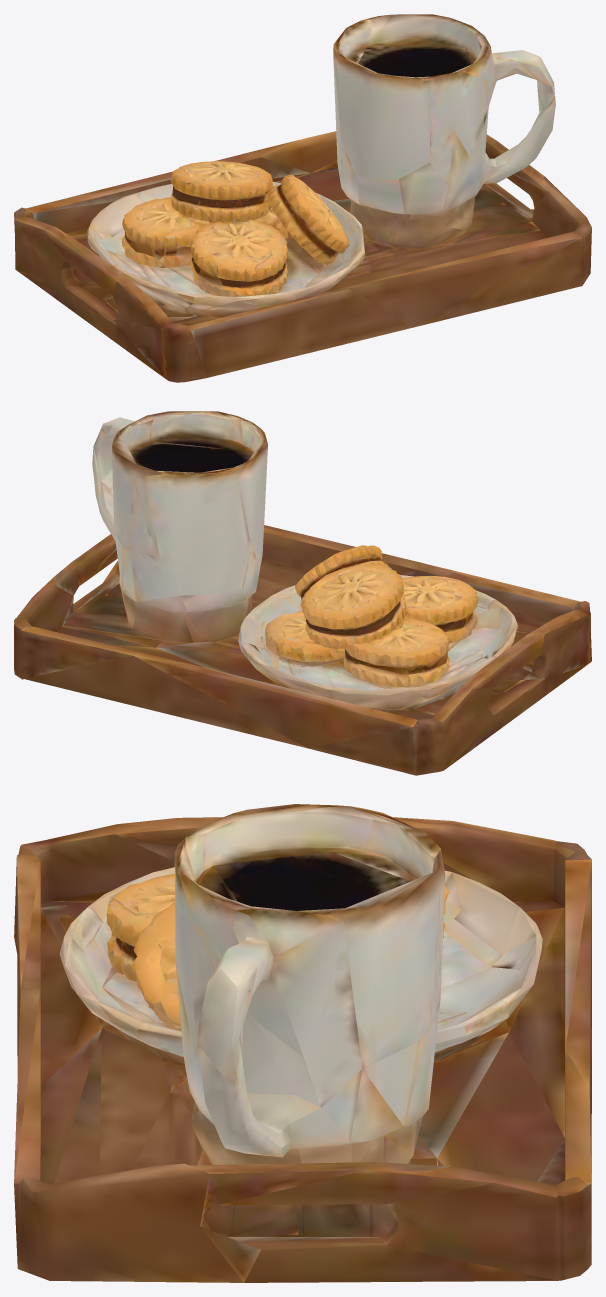
Rendered from snack.glb.
3 renders of one model, top to bottom at view 1: azimuth 30°, elevation 25°; view 2: azimuth 150°, elevation 25°; view 3: azimuth 270°, elevation 25°, orthographic. The views are drawn at different scales.
Visible parts, largest first — view 1: Mesh_0; view 2: Mesh_0; view 3: Mesh_0.
Part boxes in pixels (box(x1,y1,x2,y2)): Mesh_0: box(14, 14, 591, 382); Mesh_0: box(14, 411, 591, 775); Mesh_0: box(14, 804, 591, 1282).
Size of the model in its own units: 1.9 by 0.814 by 1.25.
1 material, 1 textured.
